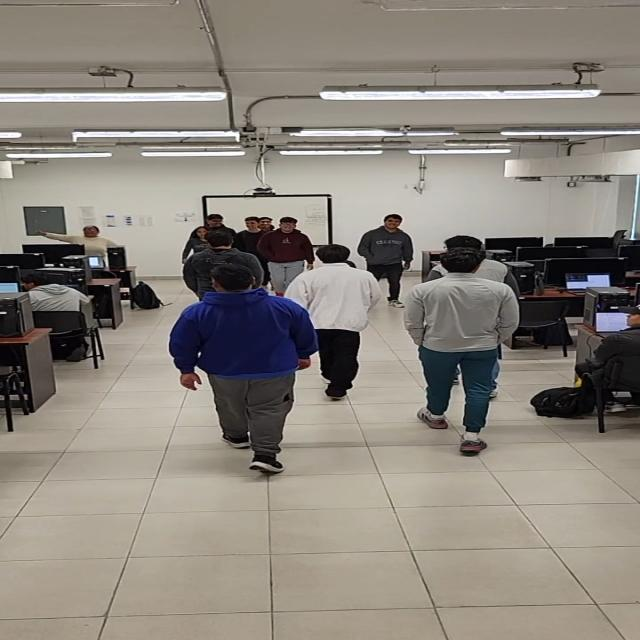Persona: (170, 266, 318, 478), (402, 245, 524, 459), (294, 243, 369, 412), (362, 211, 421, 306), (260, 214, 308, 284), (185, 226, 257, 265)
